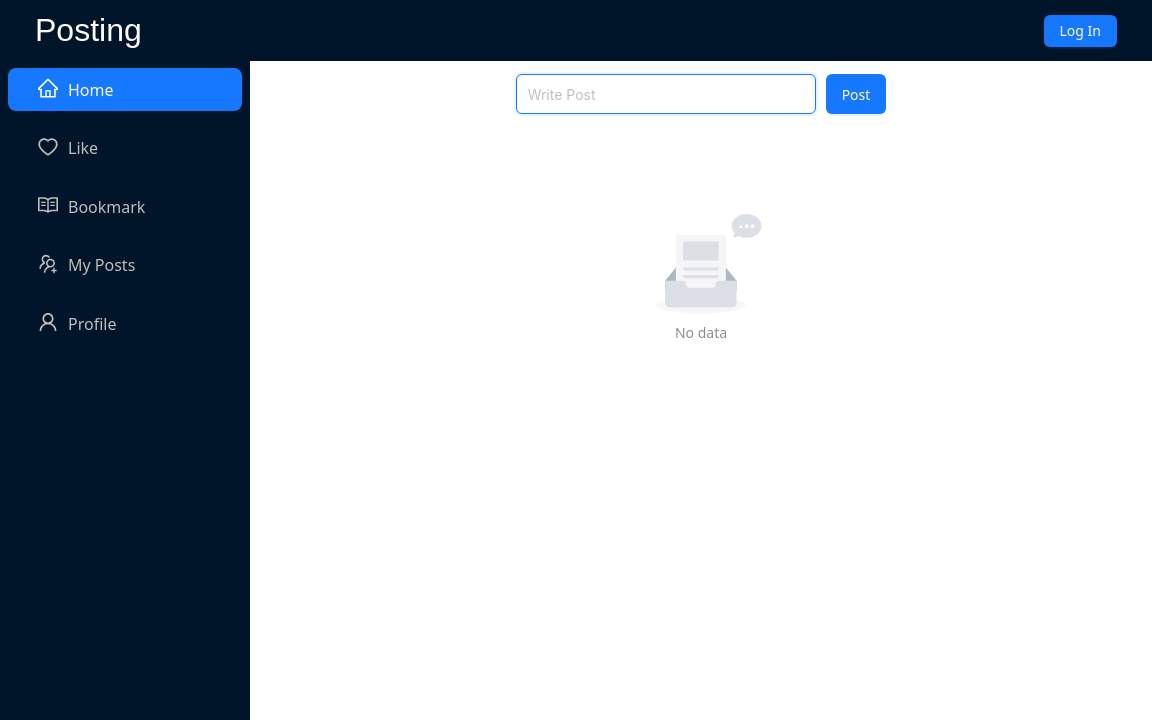
Scenario: Home page › error while posting
The width and height of the screenshot is (1152, 720).
Type "Hello, testing cypress" into the field with placeholder "Write Post". click: (666, 94)
box: [516,74,816,114]
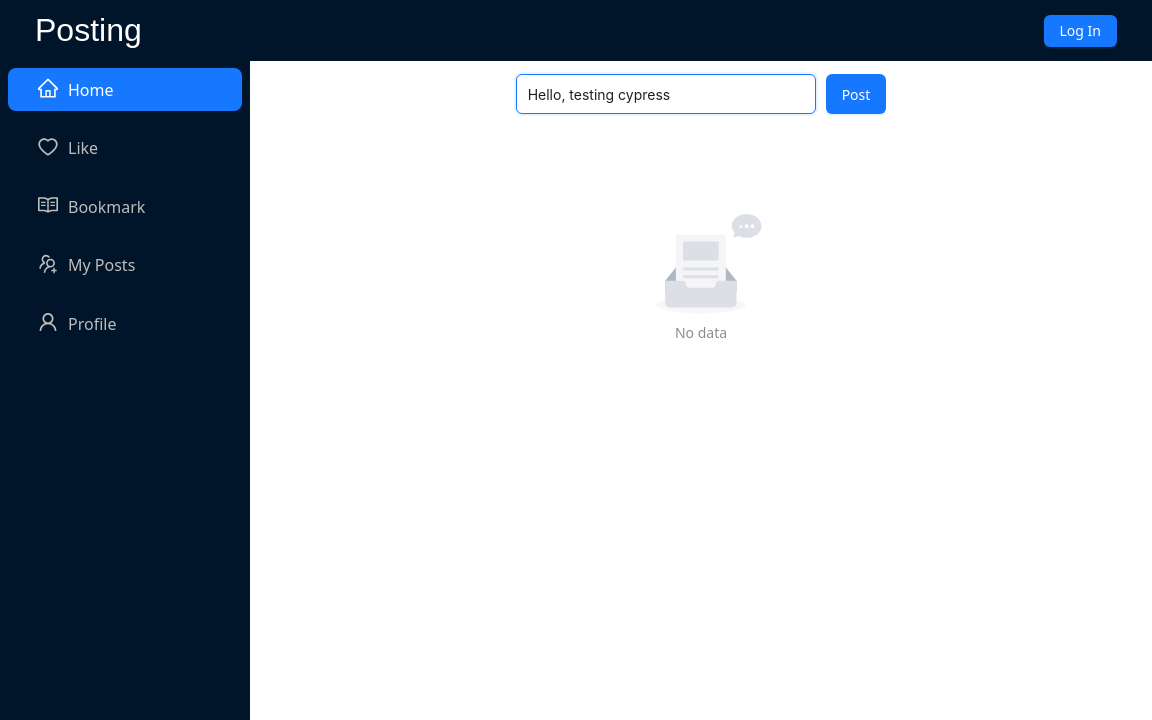
Click the button "Post". click: (857, 94)
box: [826,74,887,114]
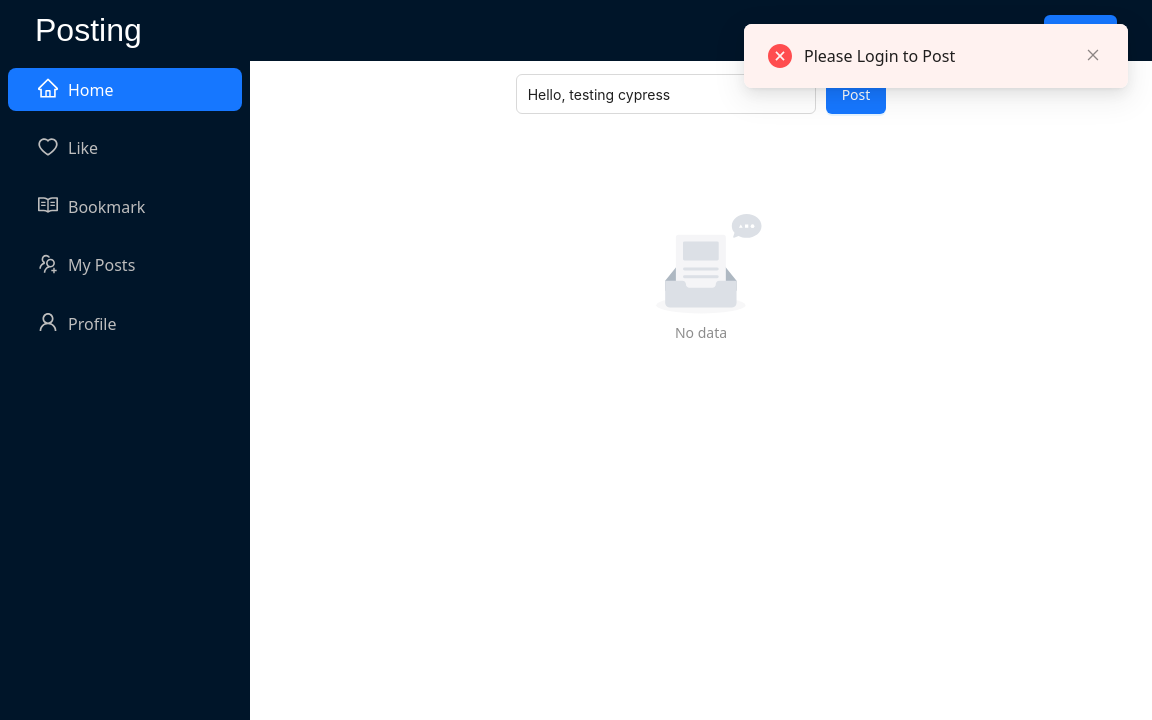
Check: the text "Please Login to Post" is shown, box [804,45,955,67]
